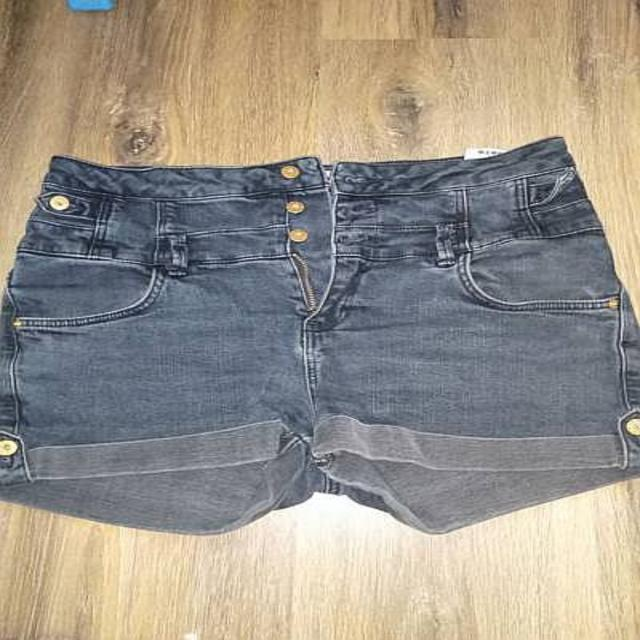SHORT: (11, 138, 632, 542)
